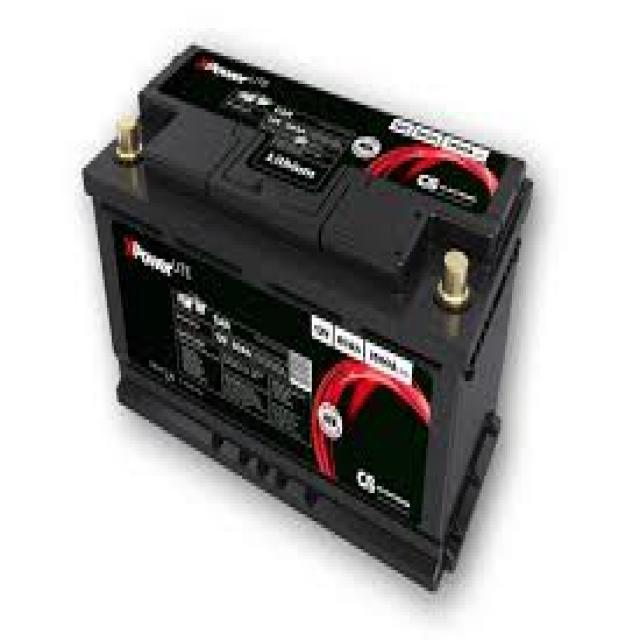Battery: (53, 35, 566, 600)
